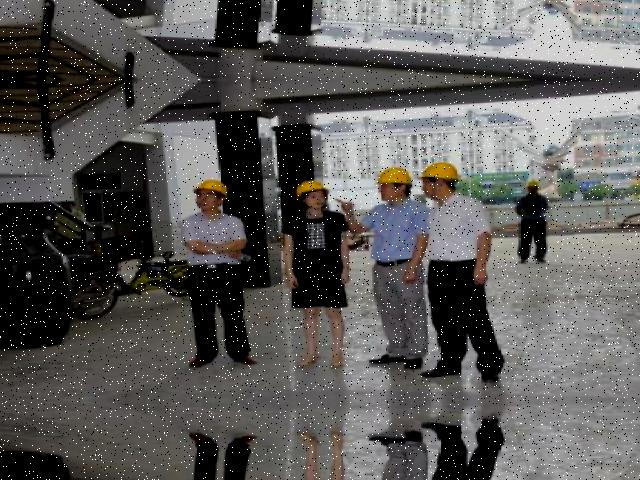Helmet: (414, 157, 462, 185), (186, 176, 233, 202), (370, 164, 413, 191), (288, 176, 332, 200)
